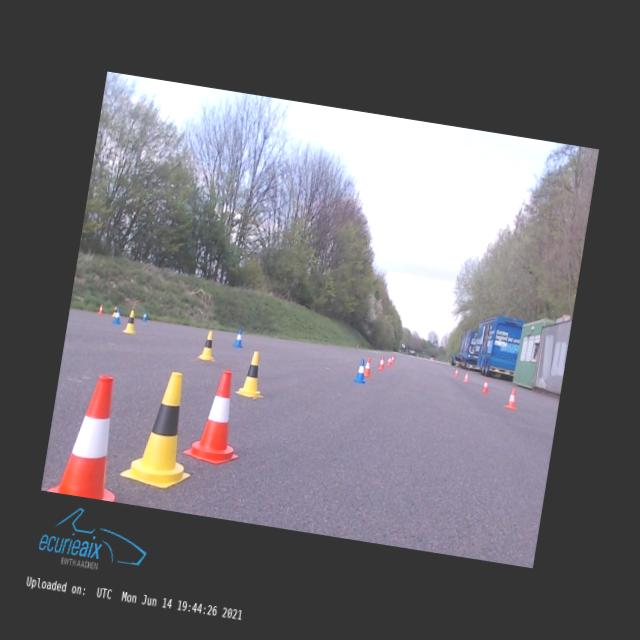blue_cone: (354, 359, 369, 384), (233, 328, 244, 348), (112, 308, 122, 324), (142, 310, 148, 322)
orange_cone: (46, 370, 134, 502), (182, 367, 251, 468), (504, 388, 519, 410), (364, 357, 374, 377), (378, 356, 387, 370), (482, 378, 489, 393), (98, 304, 104, 316), (386, 357, 392, 368), (464, 372, 469, 382), (390, 355, 394, 364), (454, 369, 459, 376)
yellow_cone: (120, 366, 206, 492), (235, 350, 269, 399), (197, 330, 219, 362), (123, 310, 139, 334), (112, 307, 118, 317)
